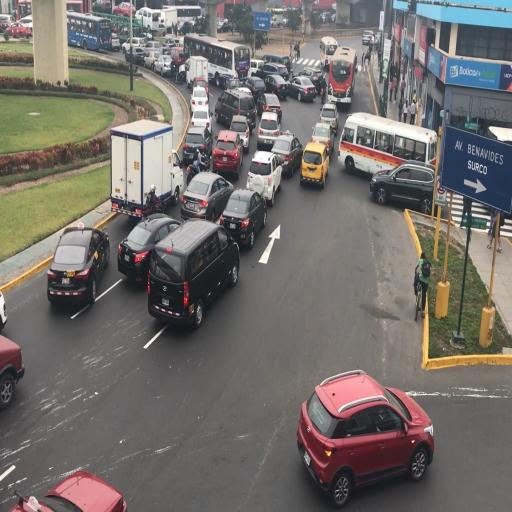auto: (295, 368, 429, 506), (148, 218, 238, 330), (46, 224, 108, 306), (6, 470, 126, 512), (117, 212, 183, 284), (181, 170, 233, 223), (219, 187, 264, 248), (0, 331, 25, 413), (246, 147, 280, 203), (214, 88, 254, 131), (211, 130, 245, 180), (270, 131, 300, 179), (300, 139, 328, 190), (182, 125, 212, 172), (256, 111, 282, 152), (226, 113, 251, 152), (310, 118, 334, 156), (286, 75, 316, 102), (262, 73, 290, 101), (258, 92, 282, 124), (297, 66, 324, 93), (190, 105, 212, 135), (261, 61, 290, 83), (168, 45, 186, 77), (320, 105, 339, 135), (152, 53, 174, 77), (143, 49, 162, 72), (143, 40, 162, 59), (126, 36, 147, 53), (112, 1, 134, 16), (18, 14, 32, 36), (0, 14, 15, 33), (92, 0, 112, 14), (162, 38, 179, 54), (362, 31, 373, 45), (367, 29, 375, 39)
bus: (342, 112, 435, 186), (184, 34, 244, 88), (326, 44, 356, 106), (68, 13, 113, 52), (162, 4, 203, 36), (135, 7, 163, 34), (319, 35, 339, 70), (266, 6, 287, 28), (16, 0, 32, 20), (65, 0, 83, 15)
camion: (109, 119, 176, 222), (185, 54, 209, 92)
